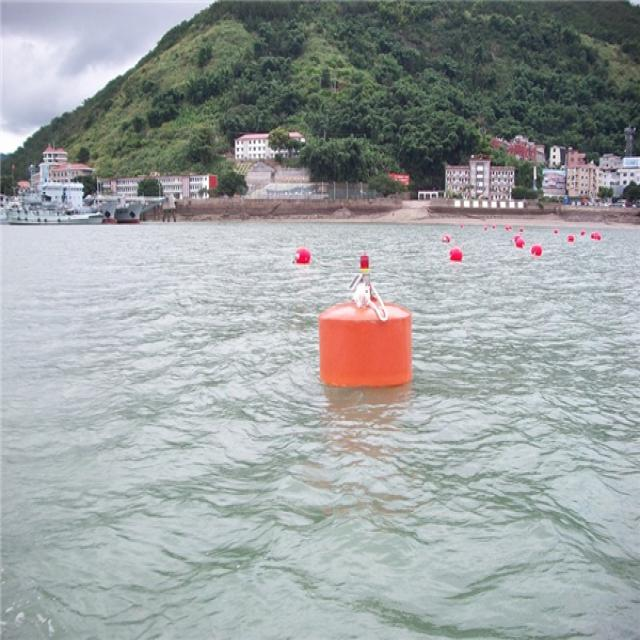buoy: (314, 254, 420, 390)
